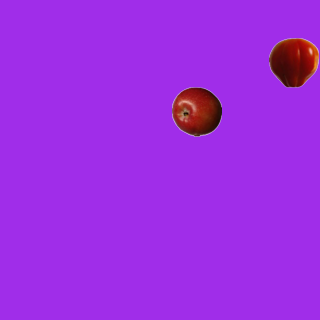Apple Braeburn: (171, 86, 221, 136)
Tomato 1: (268, 37, 318, 87)
